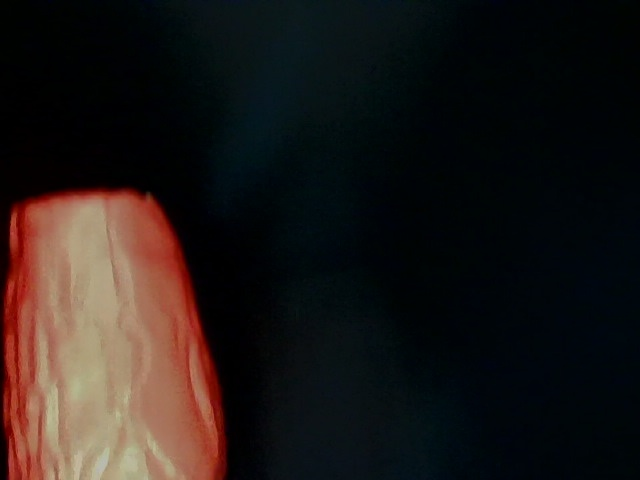YHLJ: (513, 369, 616, 449)
